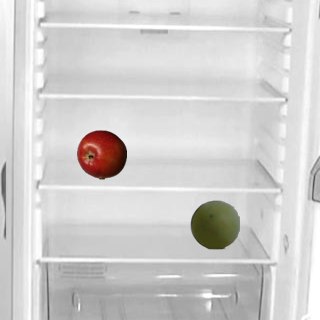Apple Braeburn: (76, 129, 126, 179)
Grape White 4: (189, 199, 239, 249)
